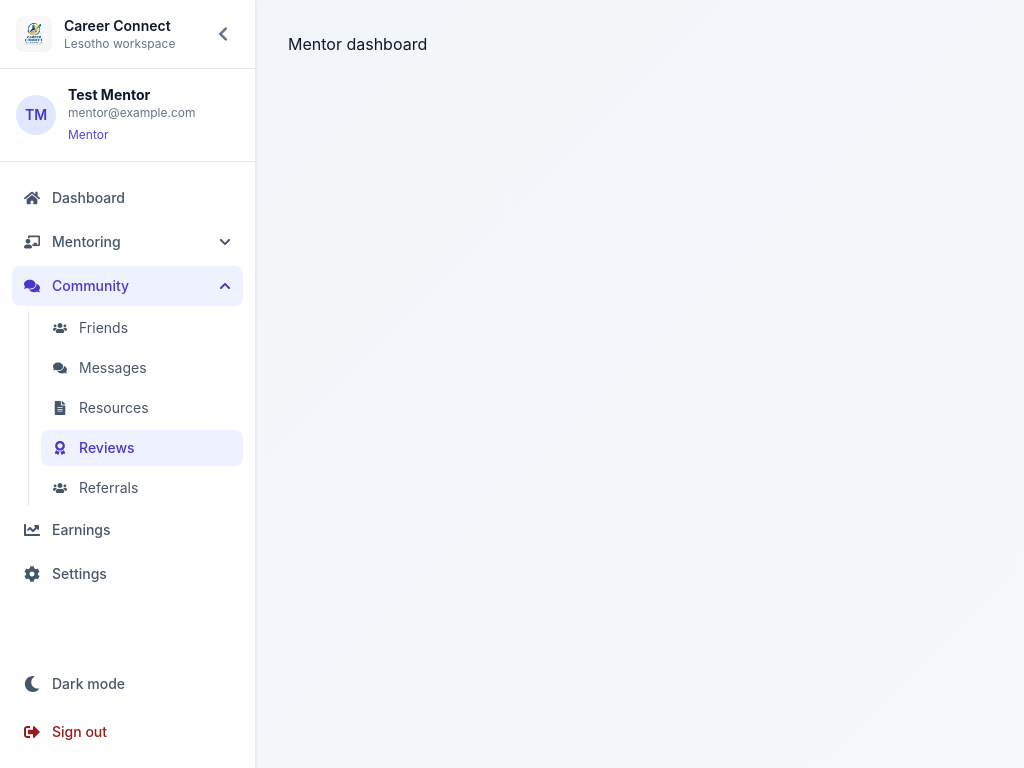
Layout › groups mentor links and expands the group containing the current page
Expected: the link "Reviews" is shown, left=41, top=430, right=243, bottom=466
Click the button "Mentoring": (128, 242) left=12, top=222, right=243, bottom=262
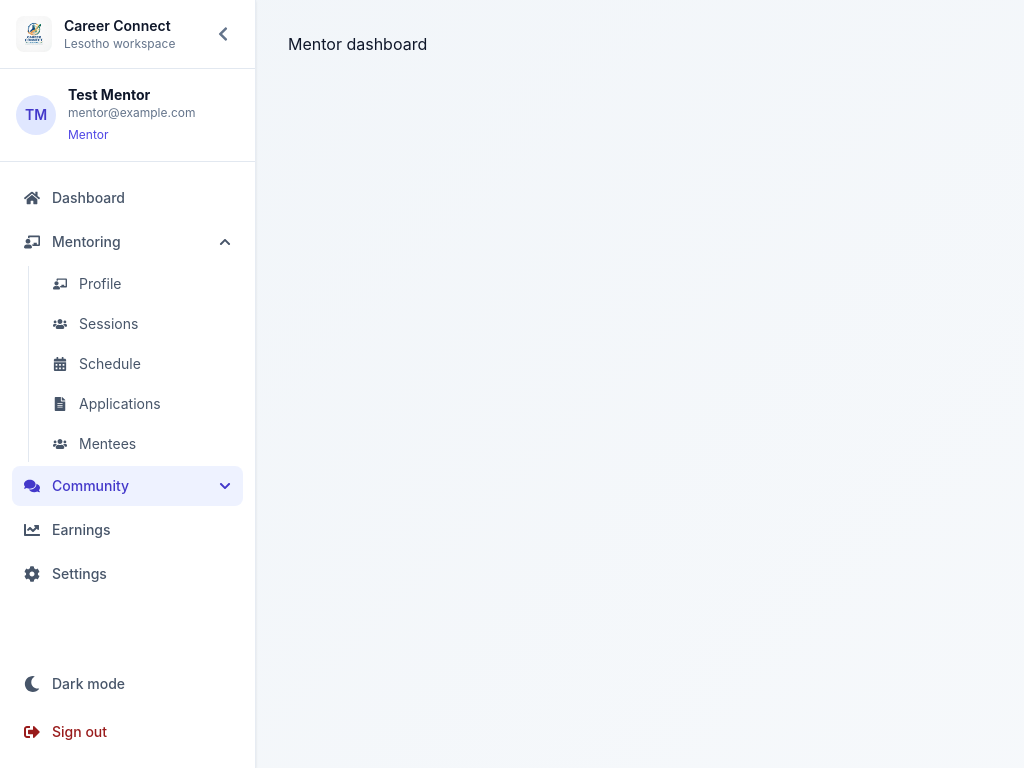
Expected: the button "Mentoring" is expanded, left=12, top=222, right=243, bottom=262
